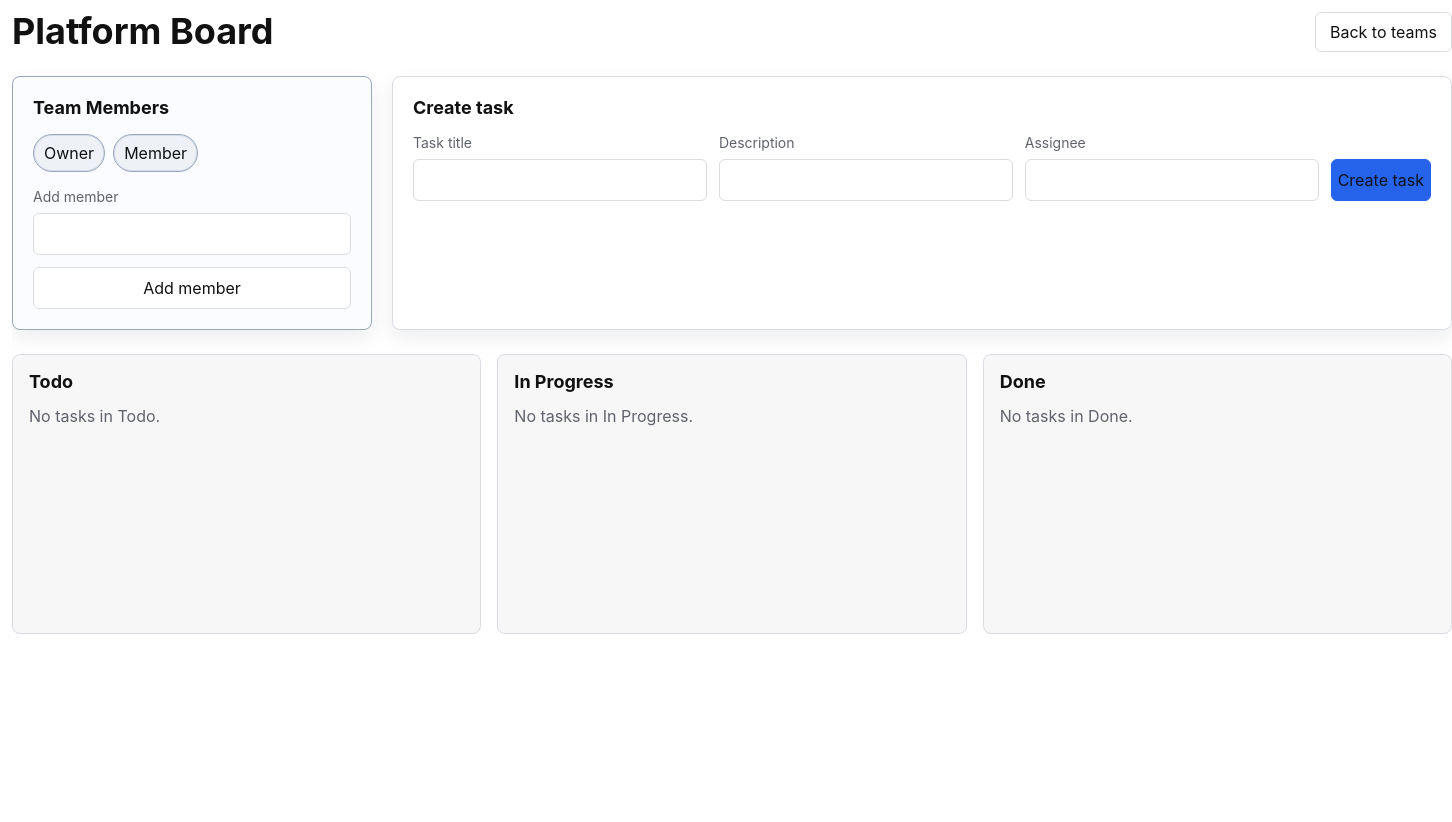
Scenario: a team owner member popover closes after an outside click
Click the button with aria-label "Manage Member" at (156, 153), box x1=113 y1=134 x2=198 y2=172
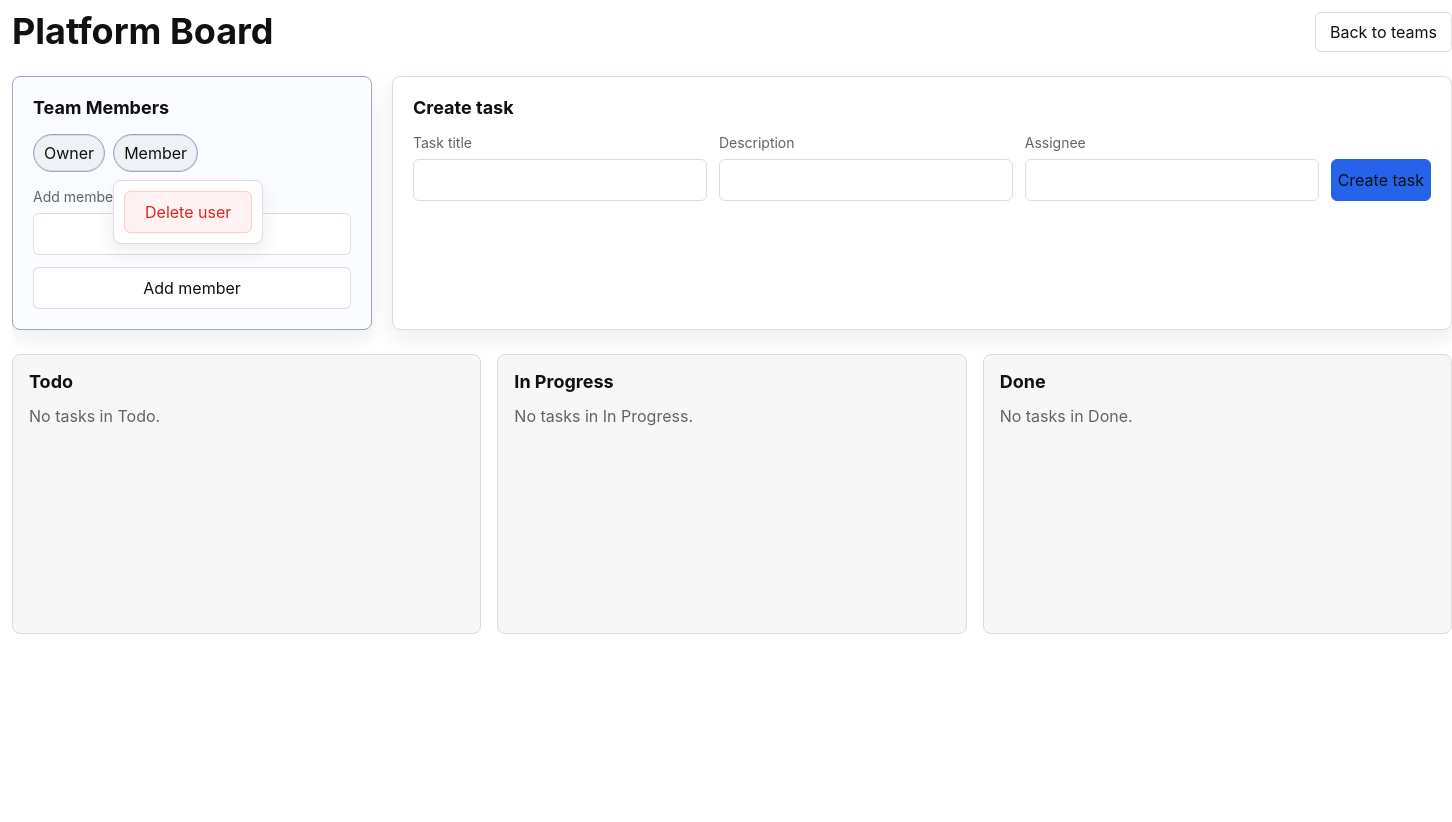
Now the button "Delete user" is shown, box x1=124 y1=191 x2=252 y2=233
Press the mouse on the element that starts with "Platform Board" at (732, 417), box x1=12 y1=12 x2=1451 y2=821
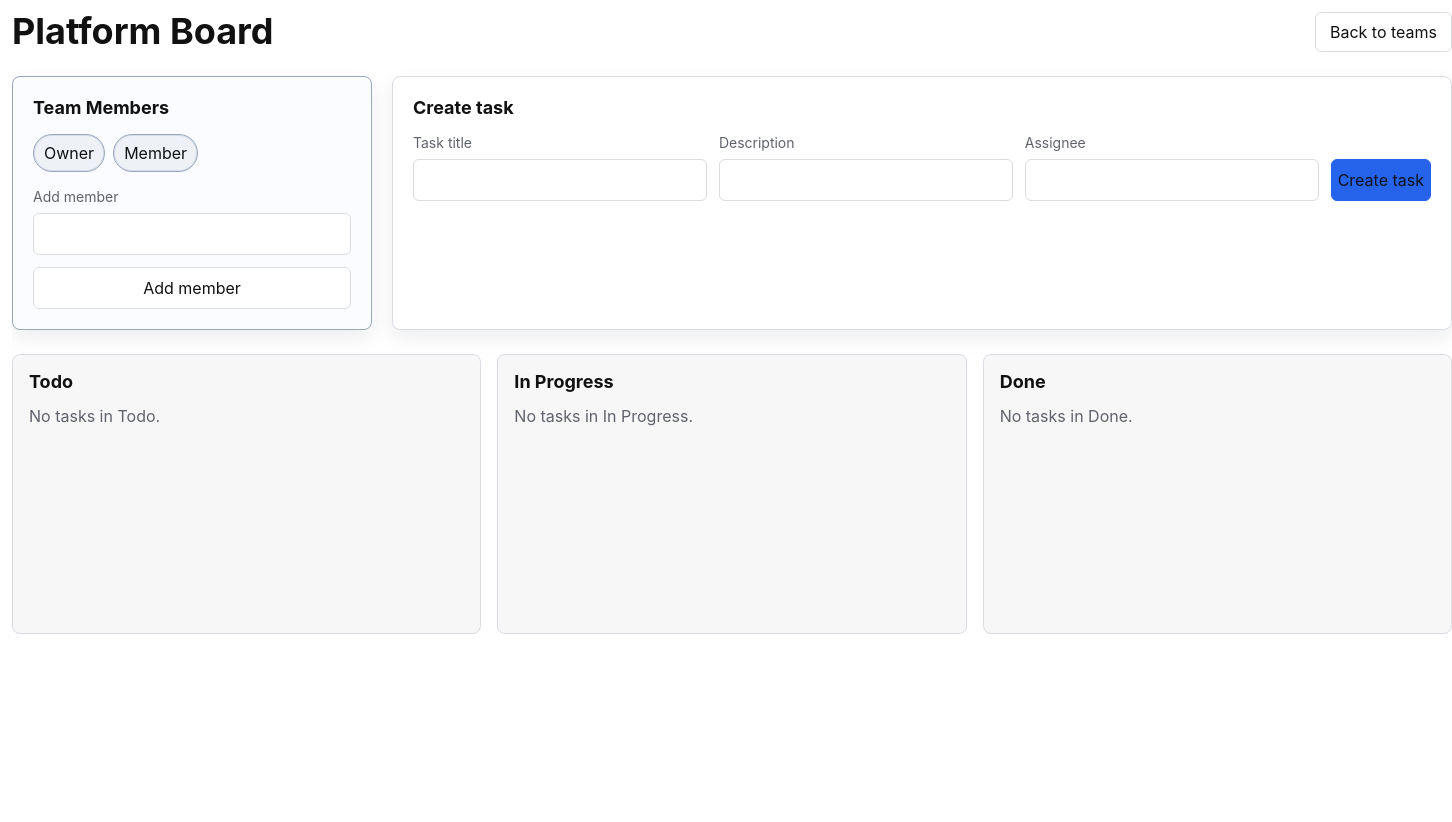
Now the button "Delete user" is gone
